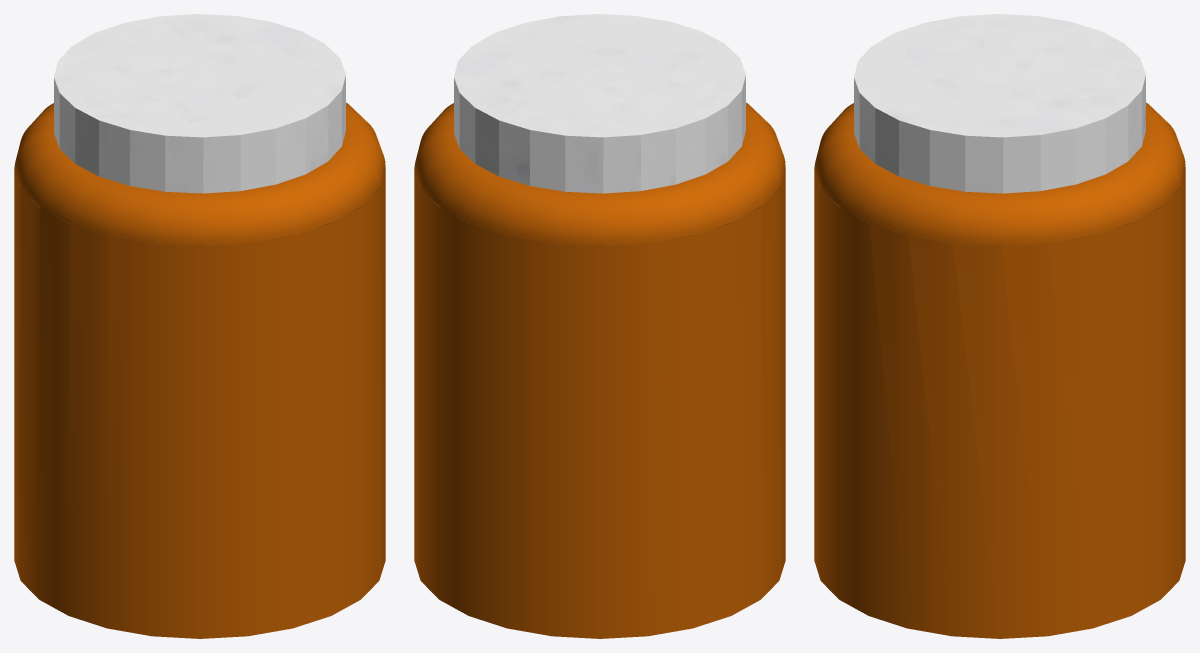
Rendered from RemedioLaranja.dae.
3 views of the same model, side by side, from view 1: azimuth 30°, elevation 25°; view 2: azimuth 150°, elevation 25°; view 3: azimuth 270°, elevation 25° (orthographic).
Parts seen in each view (by area): view 1: instance_0 (×2); view 2: instance_0 (×2); view 3: instance_0 (×2).
Part boxes in pixels (x1,y1,x2,y2): instance_0 (×2): [14, 14, 385, 638]; instance_0 (×2): [414, 14, 785, 638]; instance_0 (×2): [814, 14, 1185, 638].
Bounding box in the file's own units: 1.46 × 1.46 × 2.11.
Materials: 2 (1 with a texture image).
